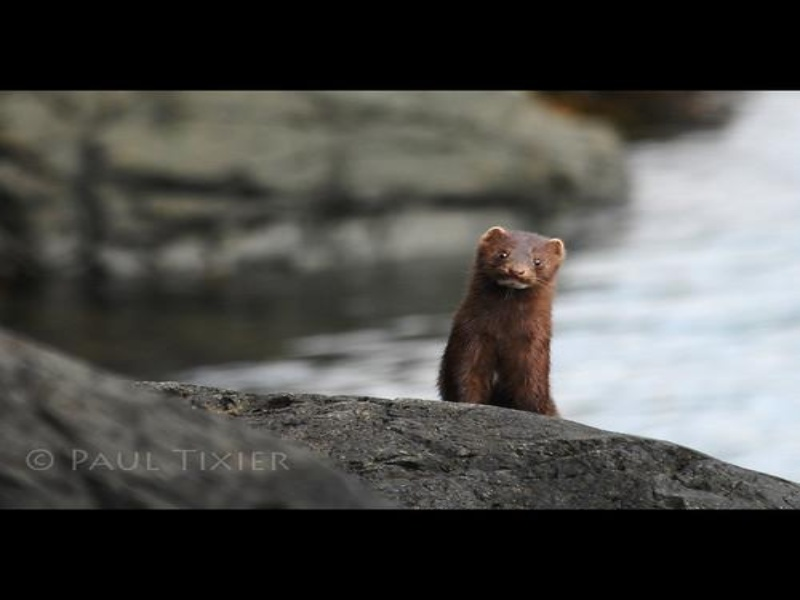minkish: (433, 223, 564, 427)
